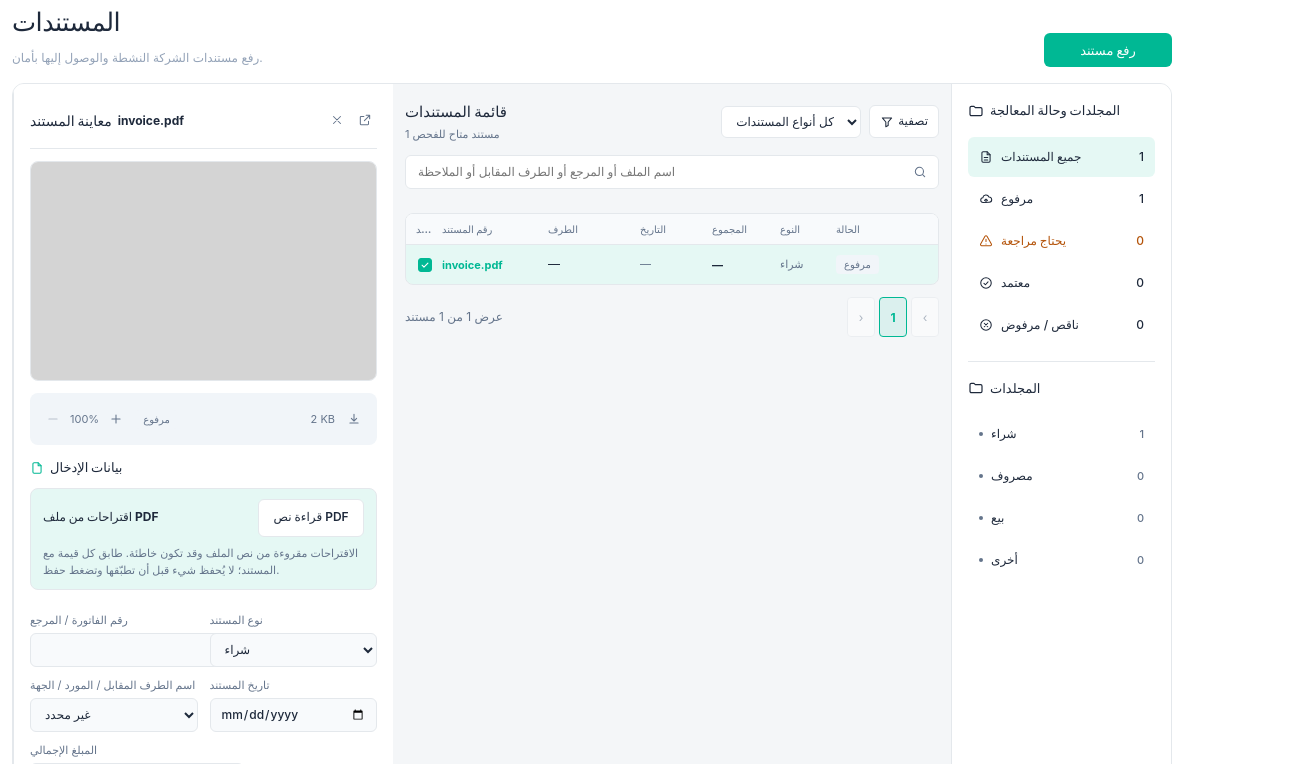
Documents T7.1 PDF suggestions › renders Arabic labels and keeps extracted text as plain text
Click the button "قراءة نص PDF" at (311, 518), box [258,499,364,537]
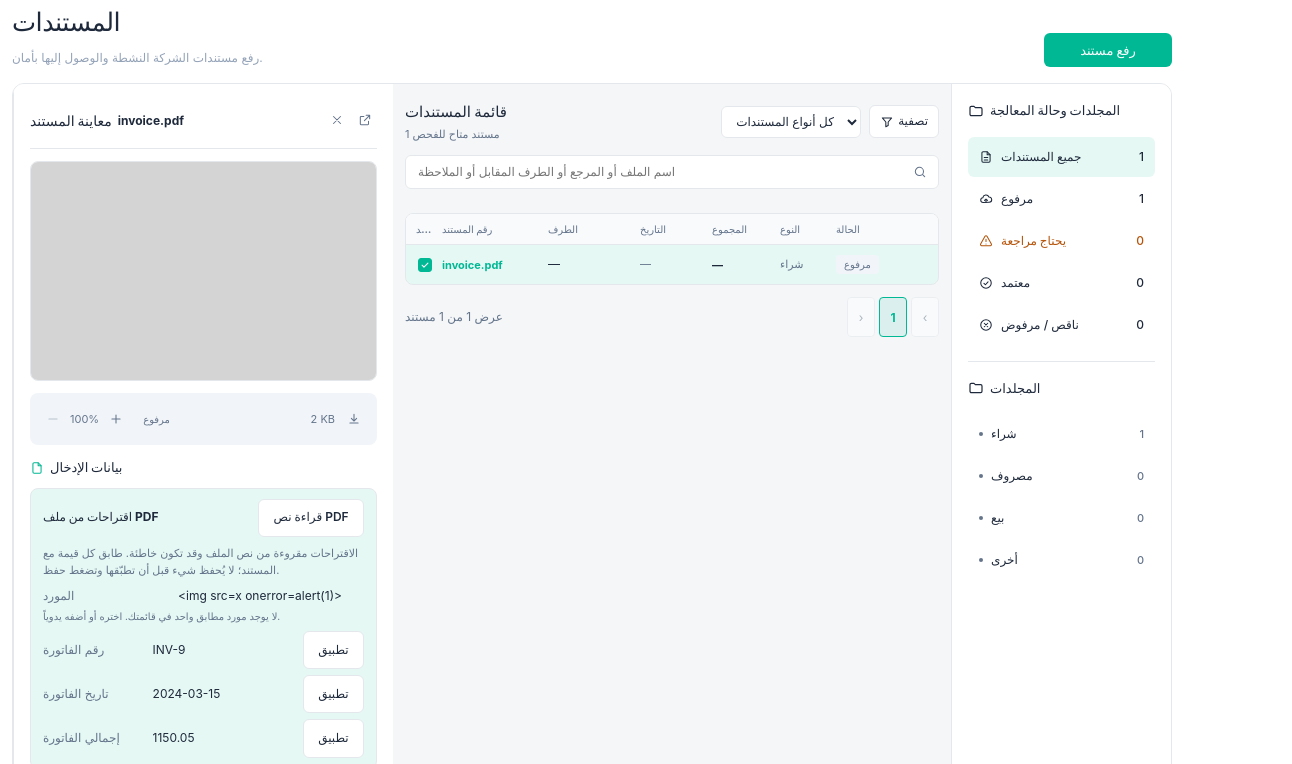
Expected: the text "<img src=x onerror=alert(1)>" is shown, [178,587,356,606]
Expected: the text "رقم الفاتورة" is shown, [43,642,104,657]
